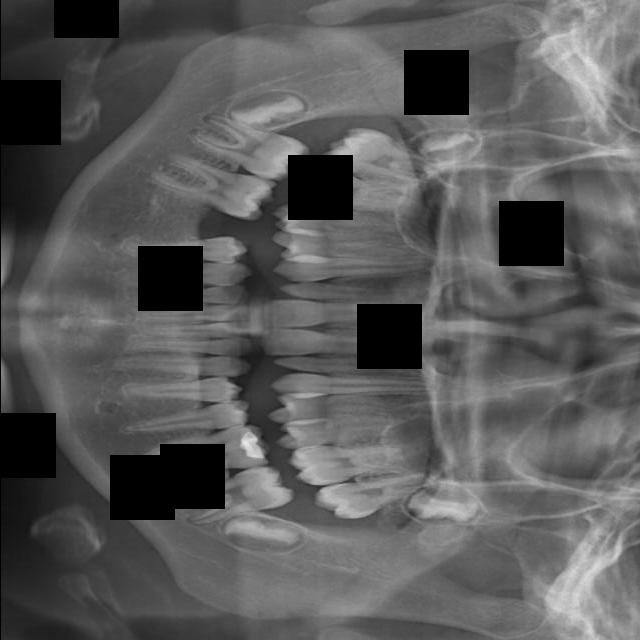3M ESPE Implant: (413, 127, 484, 166)
AGS Medikal Implant: (268, 355, 437, 377)
AMerOss Implant: (264, 370, 455, 395)
Amalgam filling: (265, 389, 422, 426)
Anthogyr Implant: (271, 405, 425, 452)
Bicon Implant: (281, 431, 431, 491)
BioHorizons Implant: (307, 471, 434, 529)
BioLife Implant: (403, 480, 482, 528)
Biomet 3i Implant: (217, 509, 310, 563)
Blue Sky Bio Implant: (216, 501, 217, 501)
Camlog Implant: (133, 419, 277, 490)
Caries: (316, 119, 442, 186)
Composite filling: (115, 396, 254, 450)
Cowellmedi Implant: (117, 376, 246, 404)
Crown: (107, 350, 254, 380)
DENTSPLY Implant: (116, 337, 254, 360)
Dentatus Implant: (115, 321, 255, 342)
Dentis Implant: (132, 305, 253, 323)
Dentium Implant: (131, 283, 251, 308)
Euroteknika Implant: (110, 258, 256, 293)
Filling: (117, 235, 250, 261)
Hiossen Implant: (285, 161, 422, 225)
Implant: (228, 139, 229, 139)
Implant Direct: (141, 143, 280, 231)
Keystone Dental Implant: (226, 80, 311, 135)
MIS Implant: (268, 201, 414, 235)
Mandible: (267, 230, 416, 265)
Maxilla: (266, 248, 438, 284)
Megagen Implant: (274, 279, 431, 305)
Neodent Implant: (260, 297, 427, 328)
Neoss Implant: (259, 328, 415, 356)
